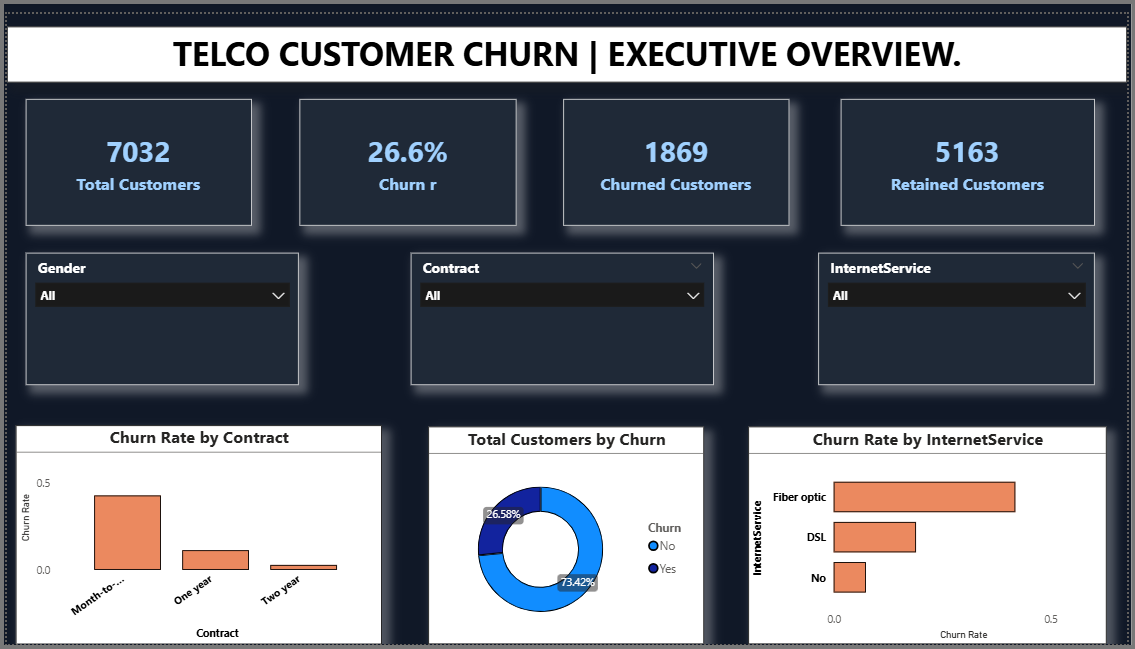

The page's visual inventory and layout, read from the dashboard file:
{"tool":"powerbi","page":{"name":"Churn Overview.","canvas":[1280,720],"ordinal":0},"visuals":[{"type":"textbox","box":[0,14.5,1280.3,63.7],"z":0},{"type":"card","fields":{"Values":["Customers.Total Customers"]},"box":[21.8,97.3,258.2,144.5],"z":1000},{"type":"card","fields":{"Values":["select","select1","Customers.Churn r"]},"box":[333.6,97.3,248.2,144.5],"z":2000},{"type":"card","fields":{"Values":["Customers.Churned Customers"]},"box":[635.5,97.3,258.2,144.5],"z":3000},{"type":"card","fields":{"Values":["Customers.Retained Customers"]},"box":[952.7,97.3,290,144.5],"z":4000},{"type":"clusteredColumnChart","fields":{"Category":["Customers.Contract"],"Y":["Customers.Churn Rate"]},"box":[10.1,470.2,418.1,250.3],"z":5000},{"type":"donutChart","fields":{"Category":["Customers.Churn"],"Y":["Customers.Total Customers"]},"box":[481.7,471.6,315.4,248.8],"z":6000},{"type":"clusteredBarChart","fields":{"Category":["Customers.InternetService"],"Y":["Customers.Churn Rate"]},"box":[847.7,471.6,409.4,248.8],"z":7000},{"type":"slicer","fields":{"Values":["Customers.gender"]},"box":[22,273,312,151],"z":8000},{"type":"slicer","fields":{"Values":["Customers.Contract"]},"box":[462,273,346,151],"z":9000},{"type":"slicer","fields":{"Values":["Customers.InternetService"]},"box":[927,273,316,151],"z":10000}]}

Visuals, with their boxes in screenshot pixels (x1, y1, x2, y2), scaled from the page's 1280x720 canvas onto the 1135x649 screenshot:
textbox: region(0, 13, 1134, 70)
card - Customers.Total Customers: region(19, 88, 248, 218)
card - select x select1: region(296, 88, 516, 218)
card - Customers.Churned Customers: region(564, 88, 792, 218)
card - Customers.Retained Customers: region(845, 88, 1102, 218)
clusteredColumnChart - Customers.Contract x Customers.Churn Rate: region(9, 424, 380, 648)
donutChart - Customers.Churn x Customers.Total Customers: region(427, 425, 707, 648)
clusteredBarChart - Customers.InternetService x Customers.Churn Rate: region(752, 425, 1115, 648)
slicer - Customers.gender: region(20, 246, 296, 382)
slicer - Customers.Contract: region(410, 246, 716, 382)
slicer - Customers.InternetService: region(822, 246, 1102, 382)
